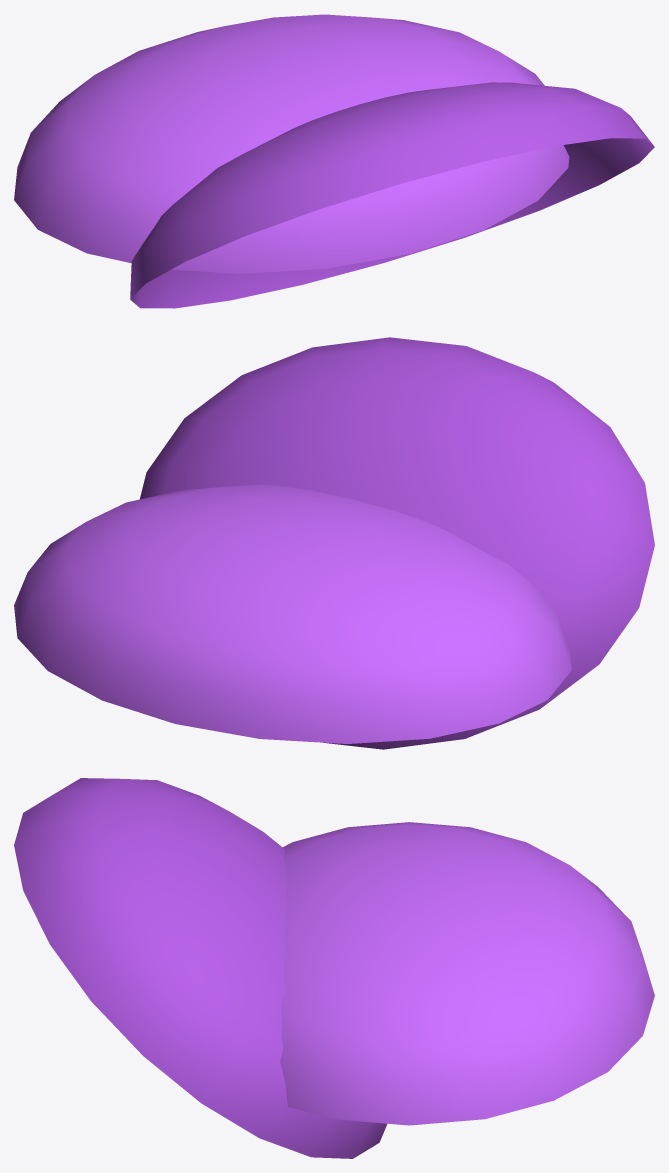
Rendered from more-muzle.glb.
The picture shows the model from 3 angles, top to bottom: view 1: azimuth 30°, elevation 25°; view 2: azimuth 150°, elevation 25°; view 3: azimuth 270°, elevation 25°; orthographic projection. The views are drawn at different scales.
Parts seen in each view (by area): view 1: more-muzle; view 2: more-muzle; view 3: more-muzle.
Part boxes in pixels (<box>): more-muzle: <box>14,14,654,308</box>; more-muzle: <box>14,337,654,749</box>; more-muzle: <box>14,778,654,1158</box>.
Size of the model in its own units: 1.24 by 0.6513 by 1.29.
